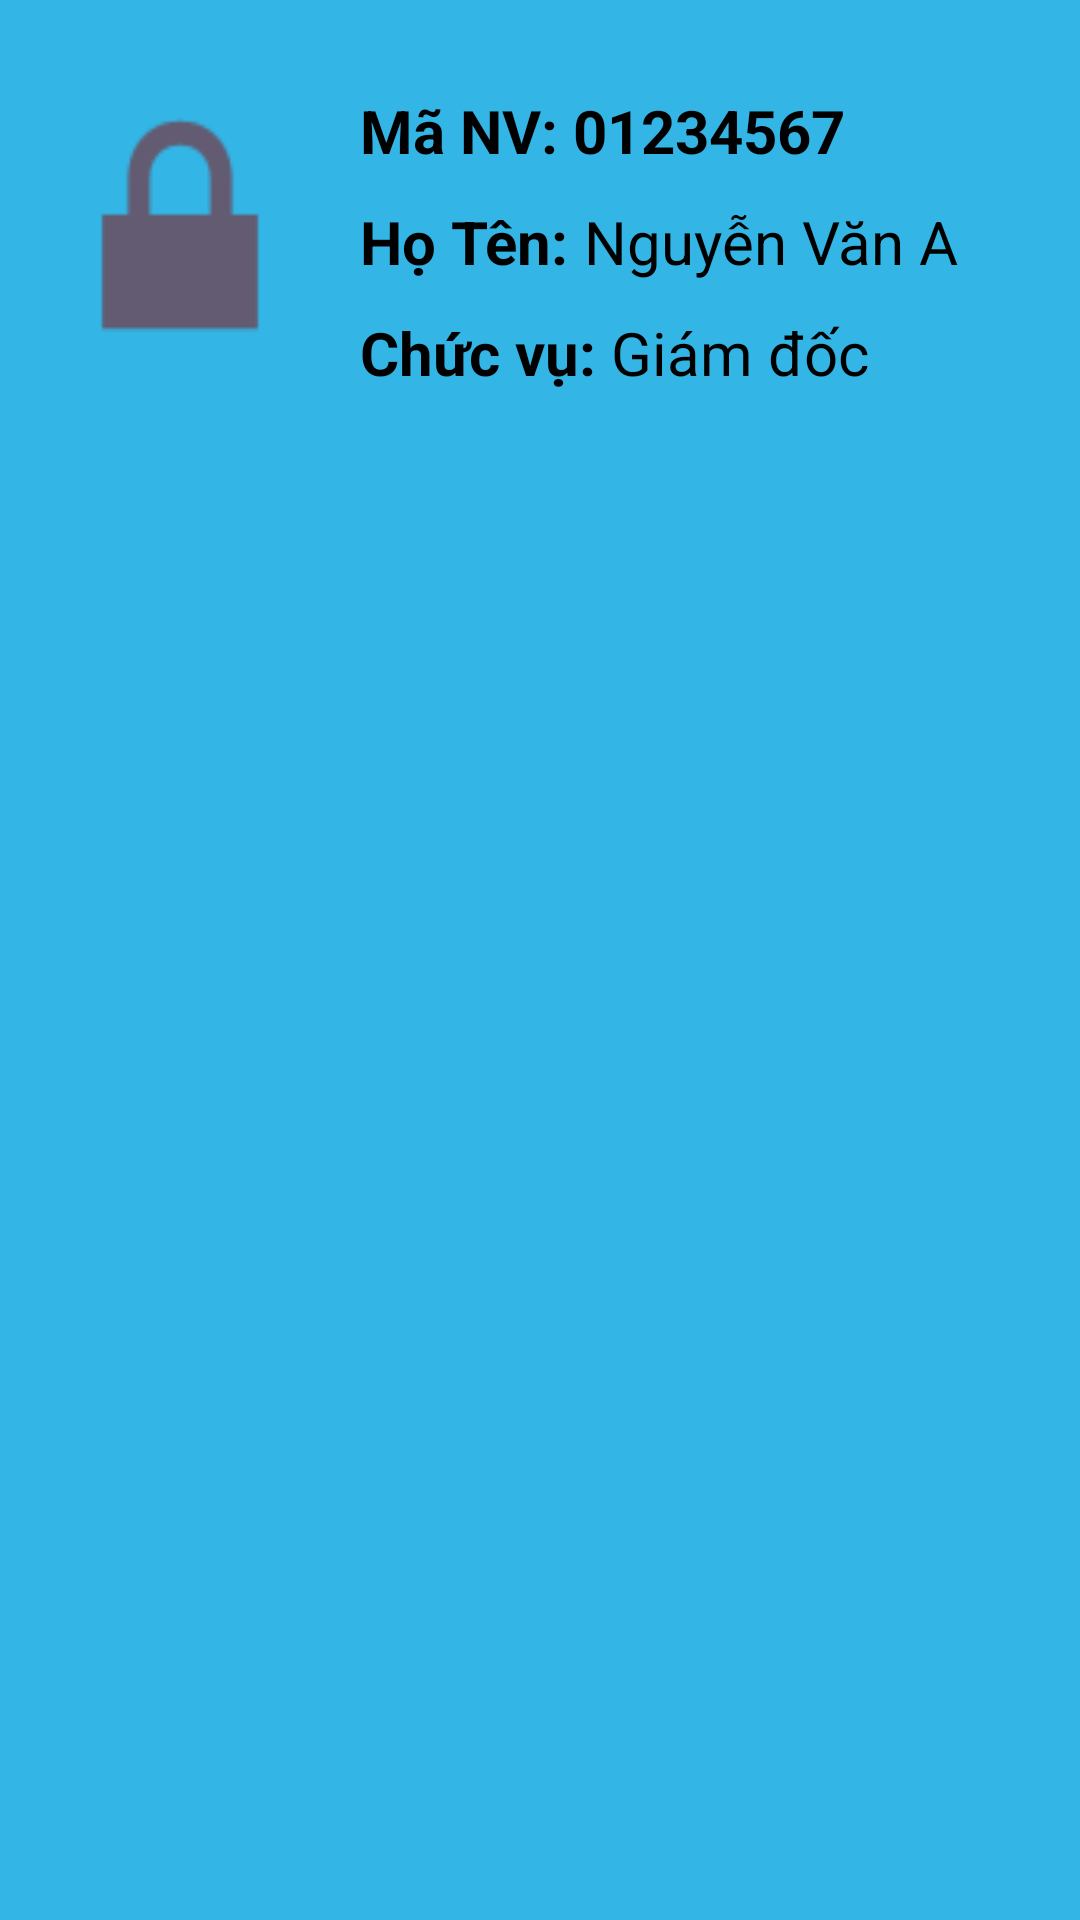

Screen size 1080×1920. Icon name, then its center in pixels as point (x, y):
lock: point (180, 225)
